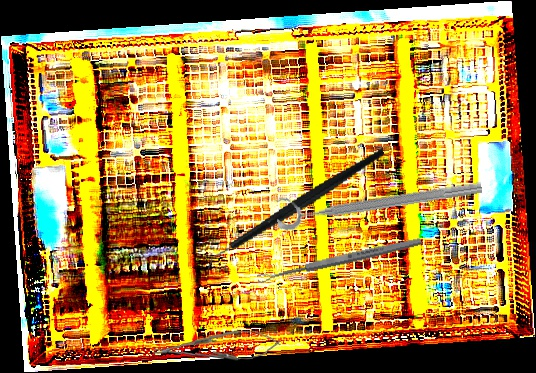Chopper: (189, 146, 402, 277)
Fixation Ring: (273, 164, 484, 232)
Needle Holder: (152, 326, 281, 367)
Surgical Spoon: (256, 235, 423, 285)
